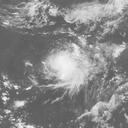cyclone: (42, 44, 90, 93)
